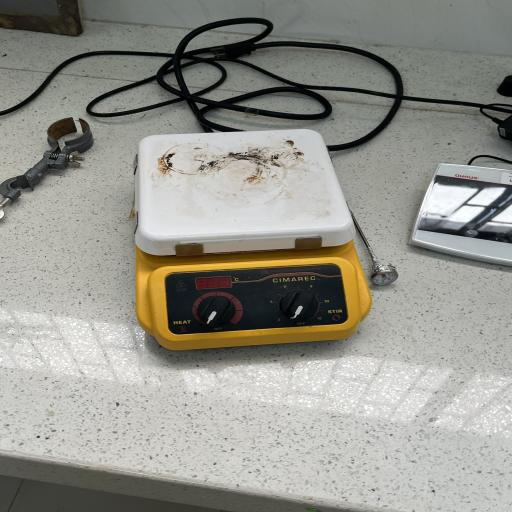Plancha_Agitacion_Cimarec: (111, 119, 383, 359)
